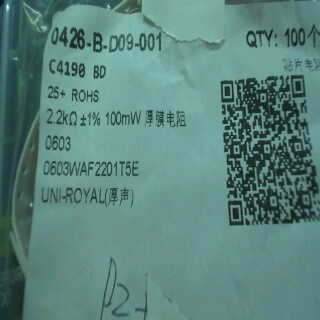2.2kR: (41, 102, 78, 134)
